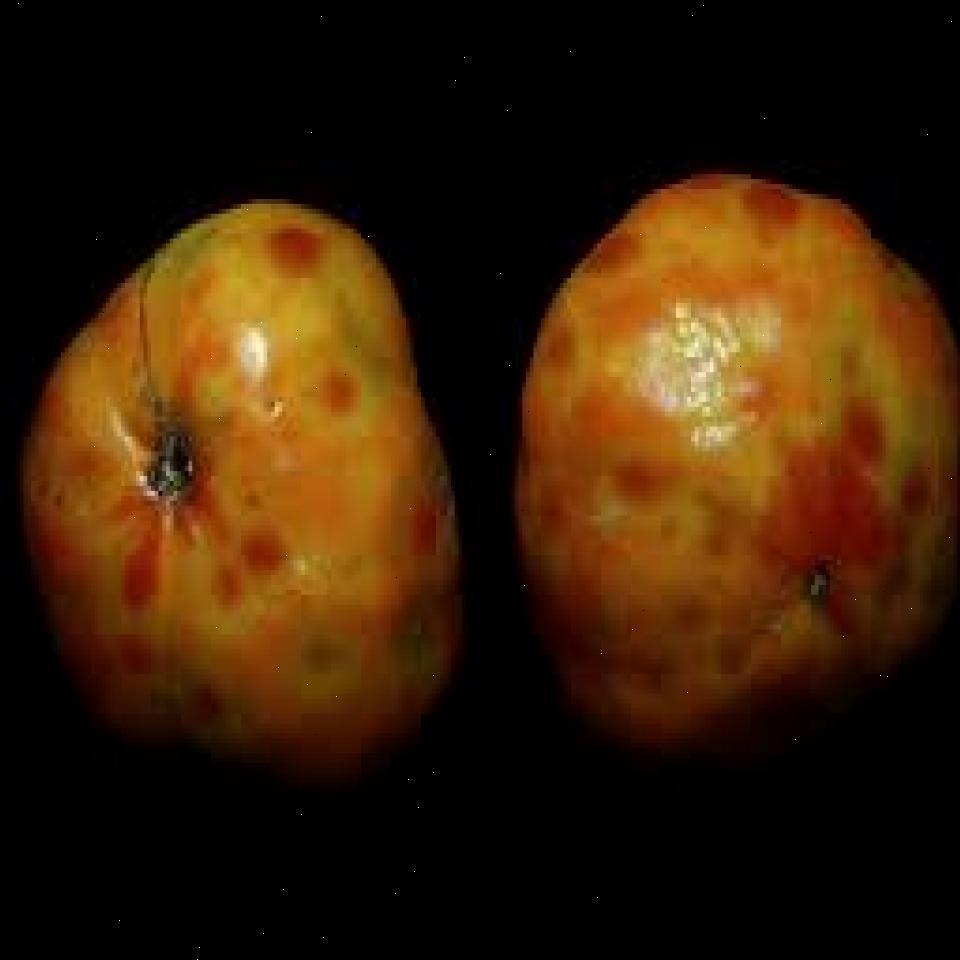Spotted wilt Virus: (514, 165, 960, 753), (21, 192, 455, 772)
